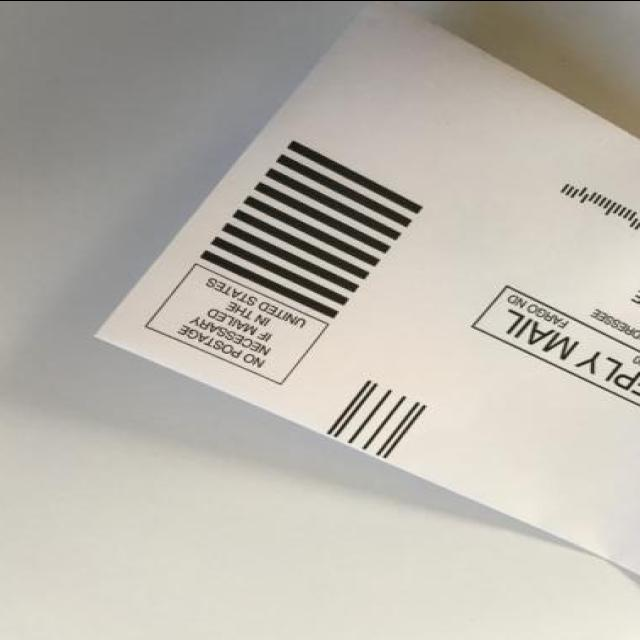kertas: (92, 0, 640, 582)
